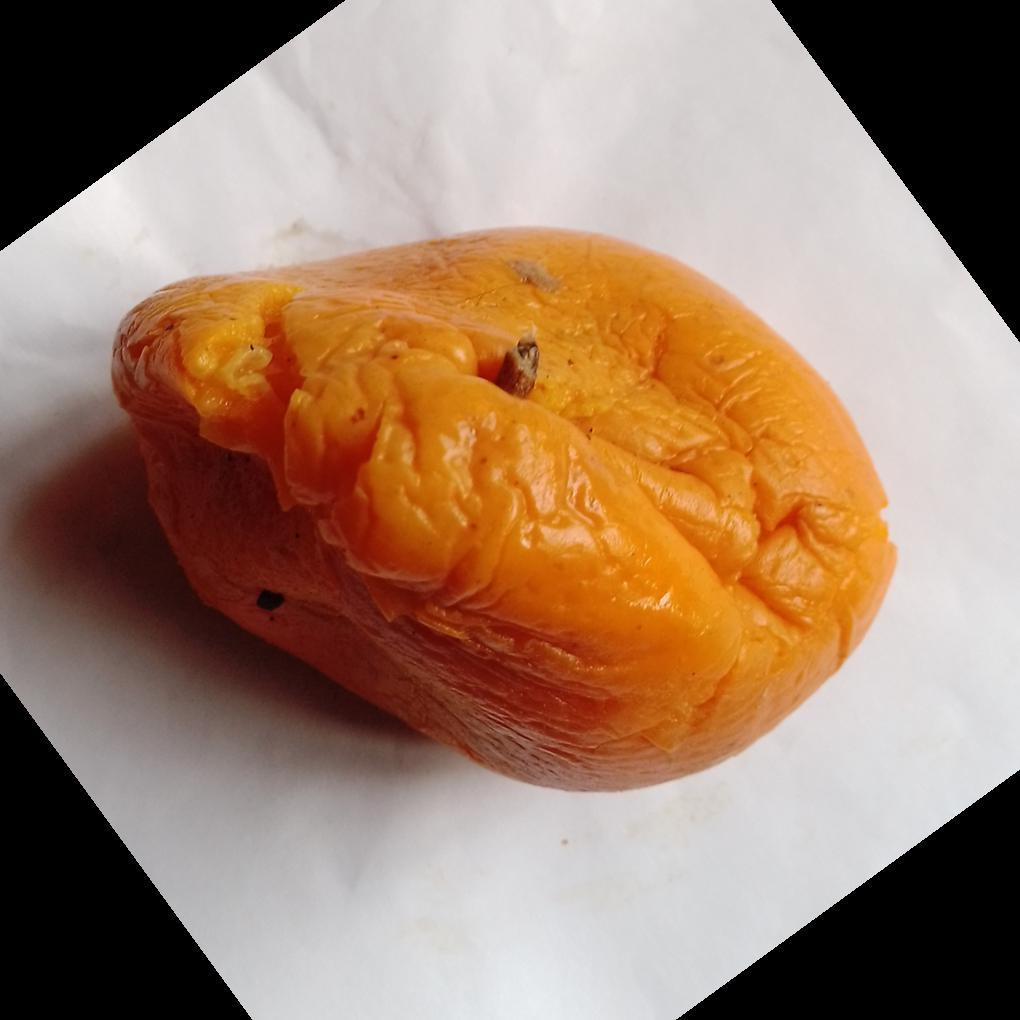FreshOrange: (107, 227, 898, 797)
